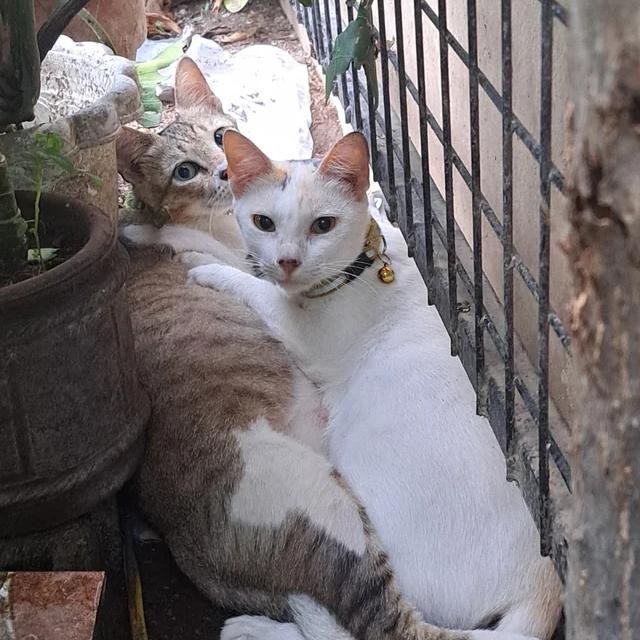animals: (217, 126, 387, 291), (112, 68, 252, 212)
